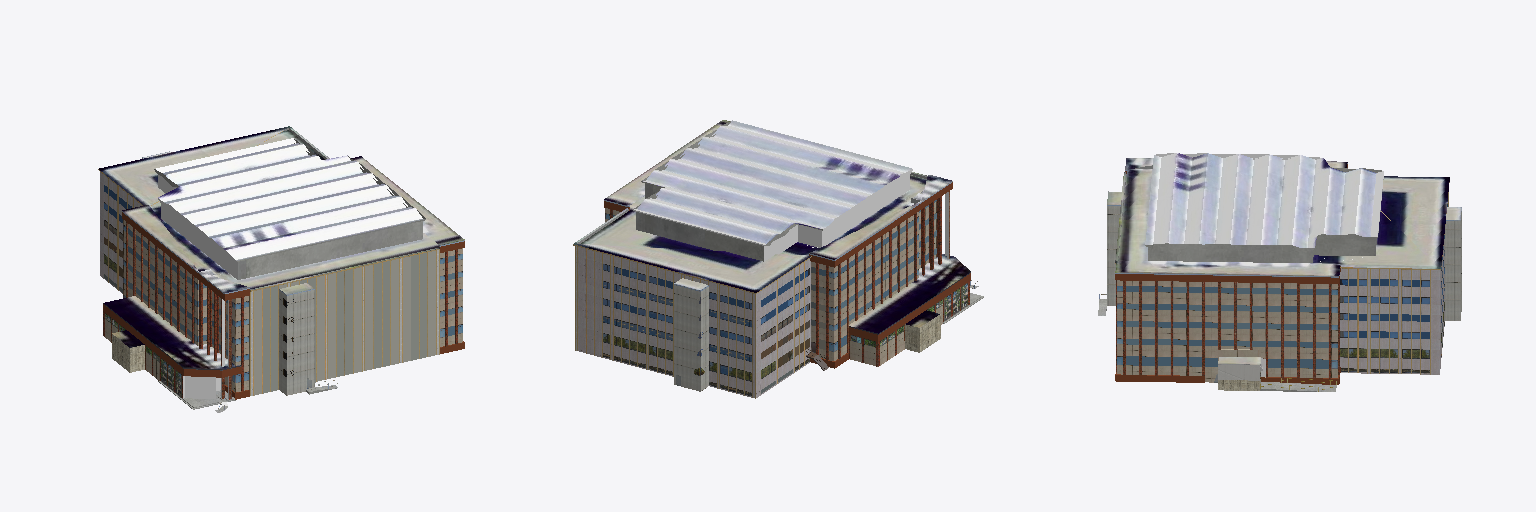
The picture shows the model from 3 angles: view 1: azimuth 30°, elevation 25°; view 2: azimuth 150°, elevation 25°; view 3: azimuth 270°, elevation 25°; orthographic projection.
Parts seen in each view (by area): view 1: Mesh1 Model; view 2: Mesh1 Model; view 3: Mesh1 Model.
Boxes of the visible parts, <box> form: Mesh1 Model: <box>98,126,464,412</box>; Mesh1 Model: <box>573,120,983,398</box>; Mesh1 Model: <box>1098,153,1461,391</box>.
Size of the model in its own units: 65.39 by 26.59 by 68.98.
Materials: 70 (51 with a texture image).